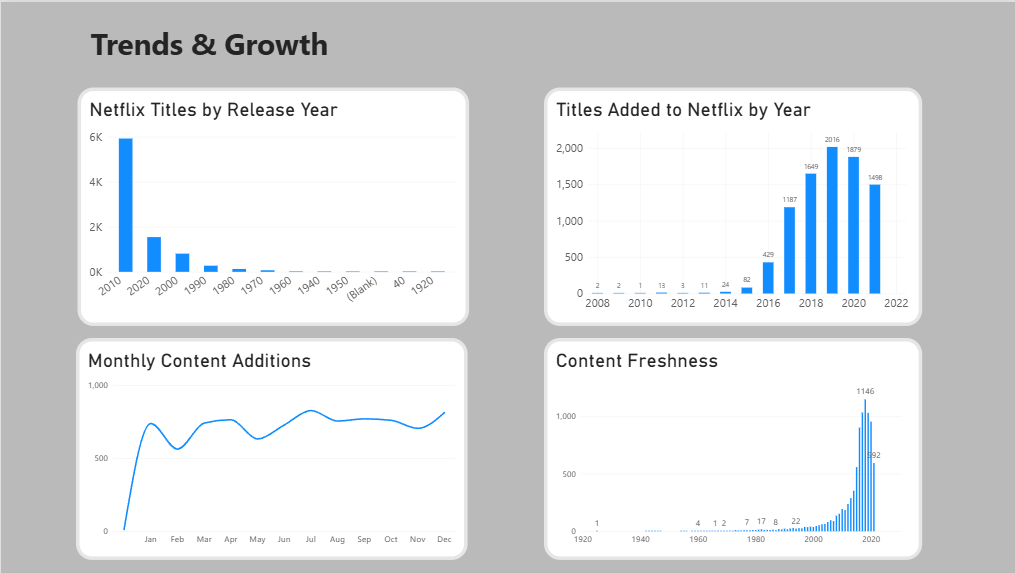

What the dashboard file says about the page in this screenshot:
{"tool":"powerbi","page":{"name":"Trends & Growth","canvas":[1920,1080],"ordinal":1},"visuals":[{"type":"columnChart","title":"Netflix Titles by Release Year","fields":{"Category":["netflix_titles.Release Decade"],"Y":["CountNonNull(netflix_titles.show_id)"]},"box":[144.6,161.6,739.8,450.7],"z":0},{"type":"clusteredColumnChart","title":"Titles Added to Netflix by Year","fields":{"Category":["netflix_titles.added_year"],"Y":["CountNonNull(netflix_titles.show_id)"]},"box":[1026.1,161.6,714.3,450.7],"z":1000},{"type":"lineChart","title":"Monthly Content Additions","fields":{"Category":["netflix_titles.Month Name"],"Y":["CountNonNull(netflix_titles.show_id)"]},"box":[141.7,635,739.8,419.5],"z":2000},{"type":"textbox","box":[76.5,39.7,595.3,99.2],"z":3000},{"type":"columnChart","title":"Content Freshness","fields":{"Category":["netflix_titles.release_year"],"Y":["CountNonNull(netflix_titles.date_added)"]},"box":[1026.1,635,714.3,419.5],"z":4000}]}

Visuals, with their boxes in screenshot pixels (x1, y1, x2, y2), scaled from the page's 1920x1080 canvas onto the 1015x573 screenshot:
"Netflix Titles by Release Year" columnChart: crop(76, 86, 468, 325)
"Titles Added to Netflix by Year" clusteredColumnChart: crop(542, 86, 920, 325)
"Monthly Content Additions" lineChart: crop(75, 337, 466, 559)
textbox: crop(40, 21, 355, 74)
"Content Freshness" columnChart: crop(542, 337, 920, 559)
